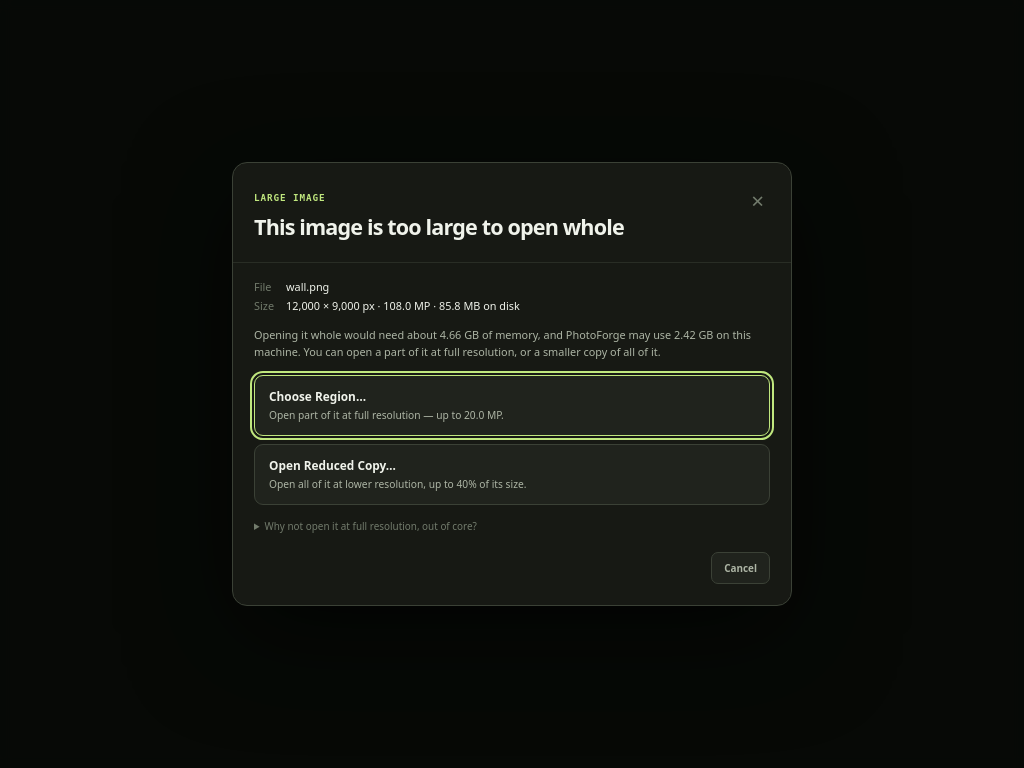
Test: oversized source dialog › choosing a region › stops the preview when the user goes back, because it holds the job gate
What coordinates should you click on to do the following:
click the button "Choose Region"
I would click on:
 (318, 396)
Its box is [254,375,770,436].
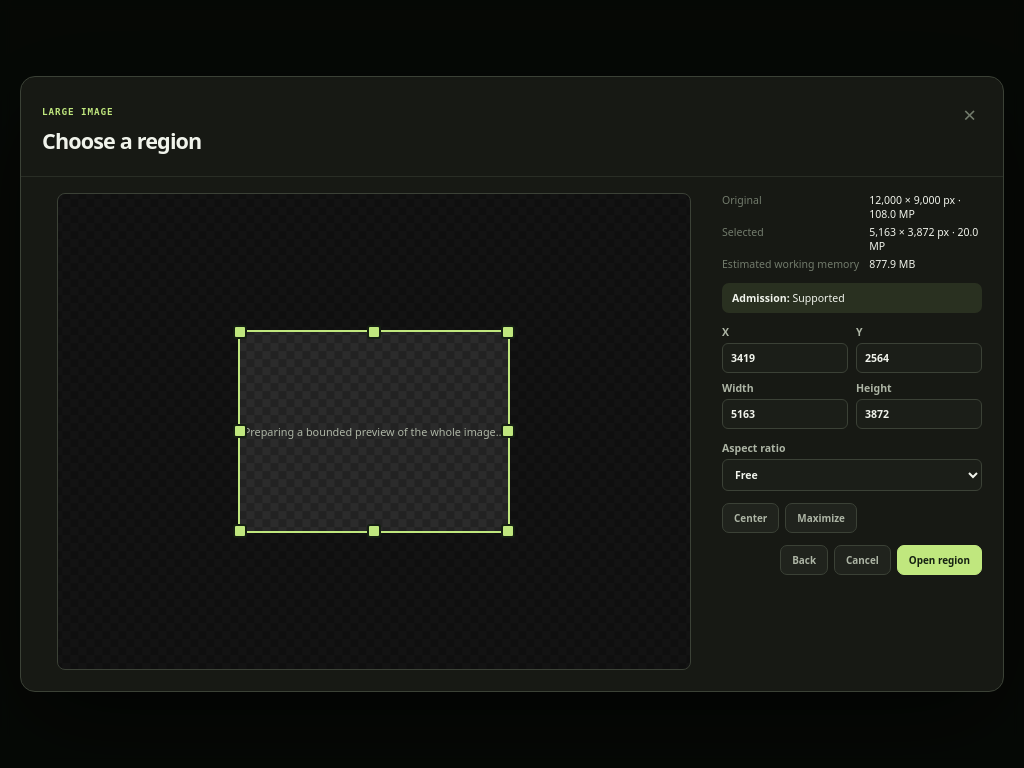
What coordinates should you click on to do the following:
click the button "Back"
I would click on:
 (804, 560)
Its box is [780,545,828,575].
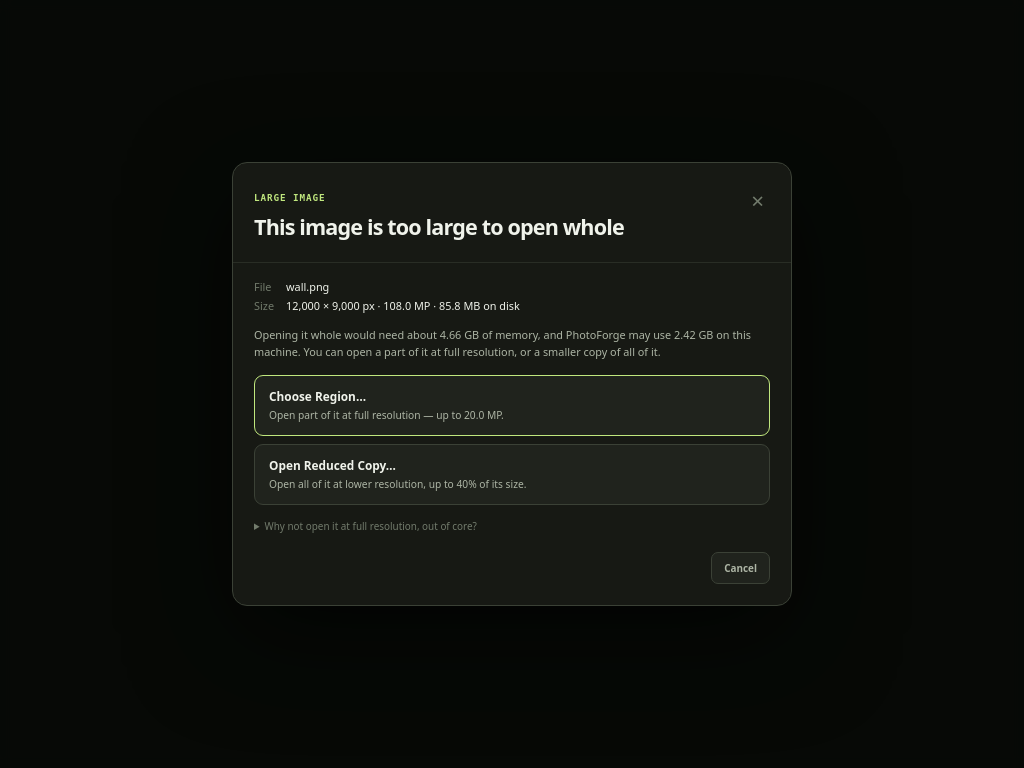
Now the button "Choose Region" is shown, box [254,375,770,436]
